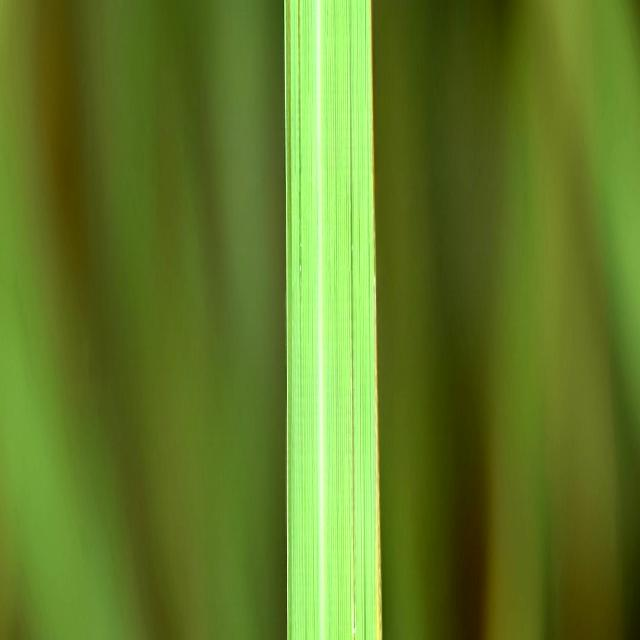BLS: (369, 0, 382, 640), (351, 341, 356, 640), (287, 0, 291, 332), (298, 0, 301, 350), (365, 595, 366, 640)
